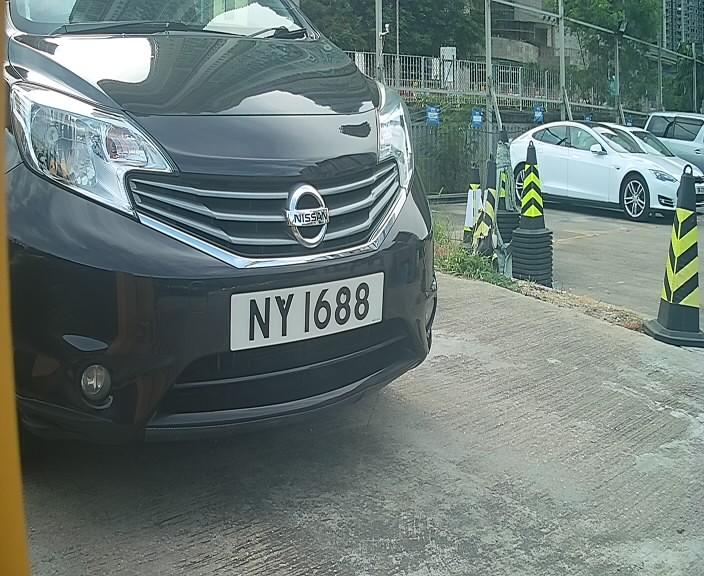License Plate: (224, 268, 390, 350)
